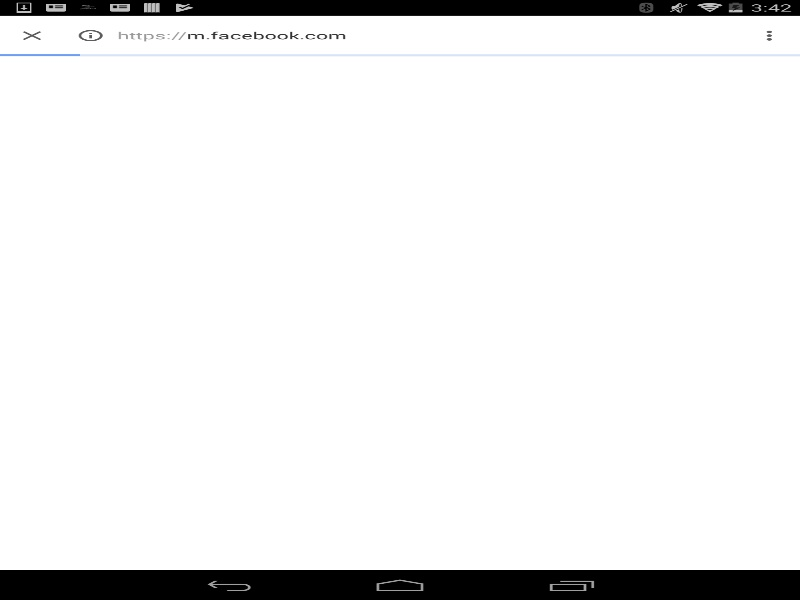Button: (0, 18, 64, 53), (744, 18, 800, 53), (64, 23, 117, 47)
Input: (117, 36, 303, 47)
